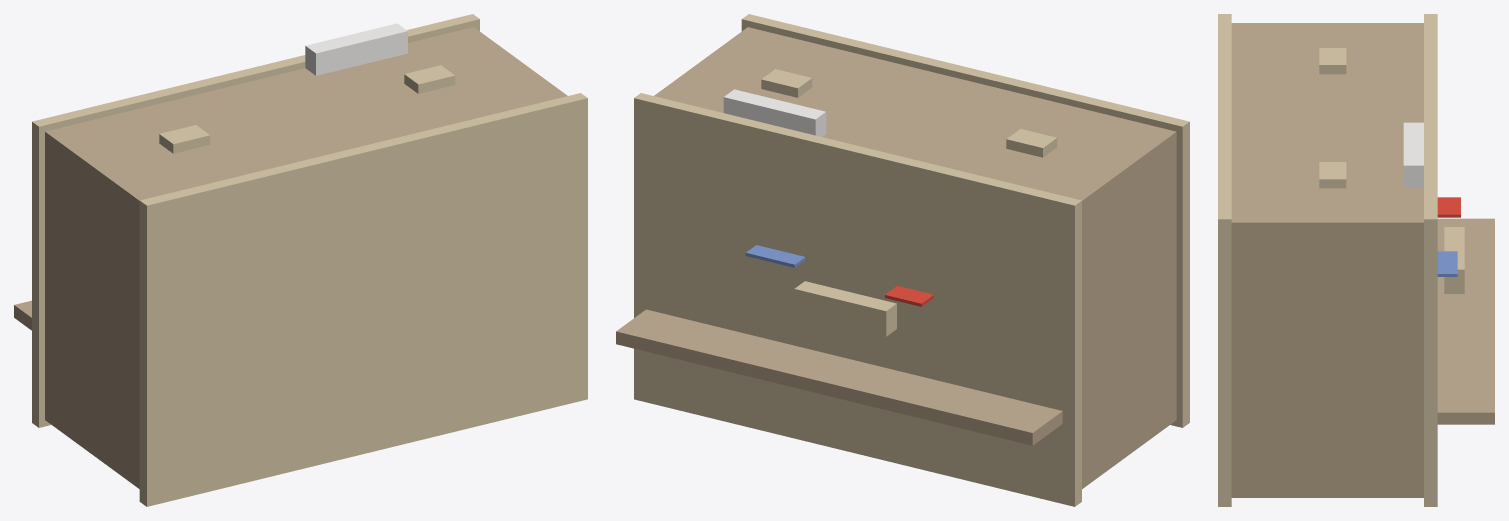
The model's file is suitcase.glb.
3 views of the same model, side by side, from view 1: azimuth 30°, elevation 25°; view 2: azimuth 150°, elevation 25°; view 3: azimuth 270°, elevation 25° (orthographic). The views are drawn at different scales.
Visible parts, largest first — view 1: Suitcase; view 2: Suitcase; view 3: Suitcase.
Boxes of the visible parts, <box> form: Suitcase: <box>14,14,587,506</box>; Suitcase: <box>616,14,1189,506</box>; Suitcase: <box>1218,14,1494,506</box>.
Size of the model in its own units: 0.72 by 0.495 by 0.41.
